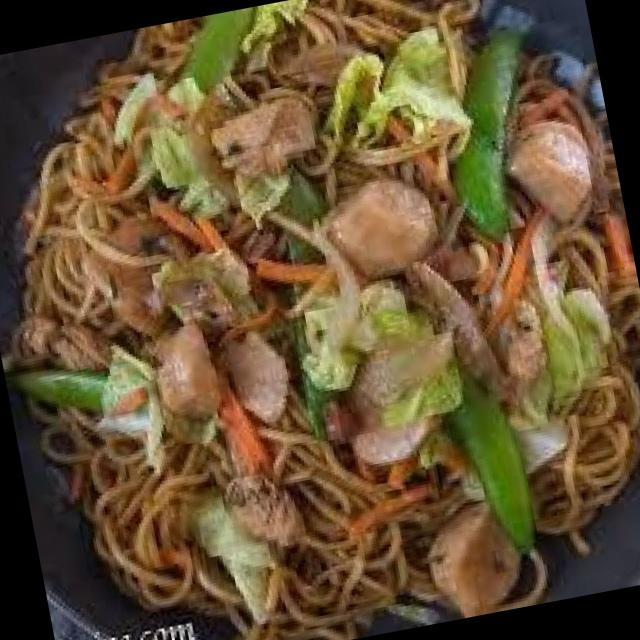pancit bihon: (11, 0, 639, 639)
